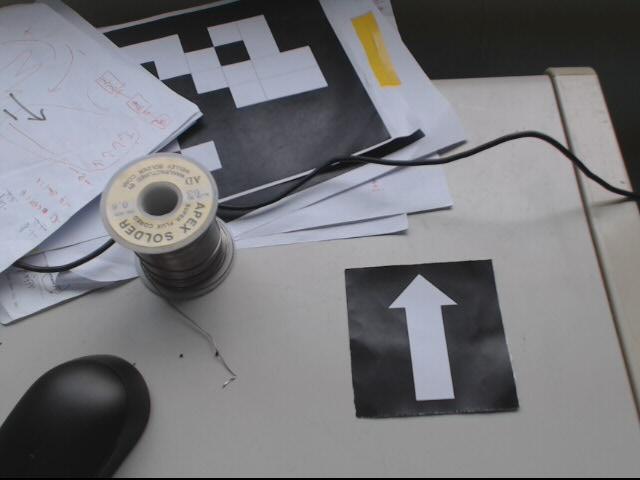straight: (343, 261, 515, 416)
